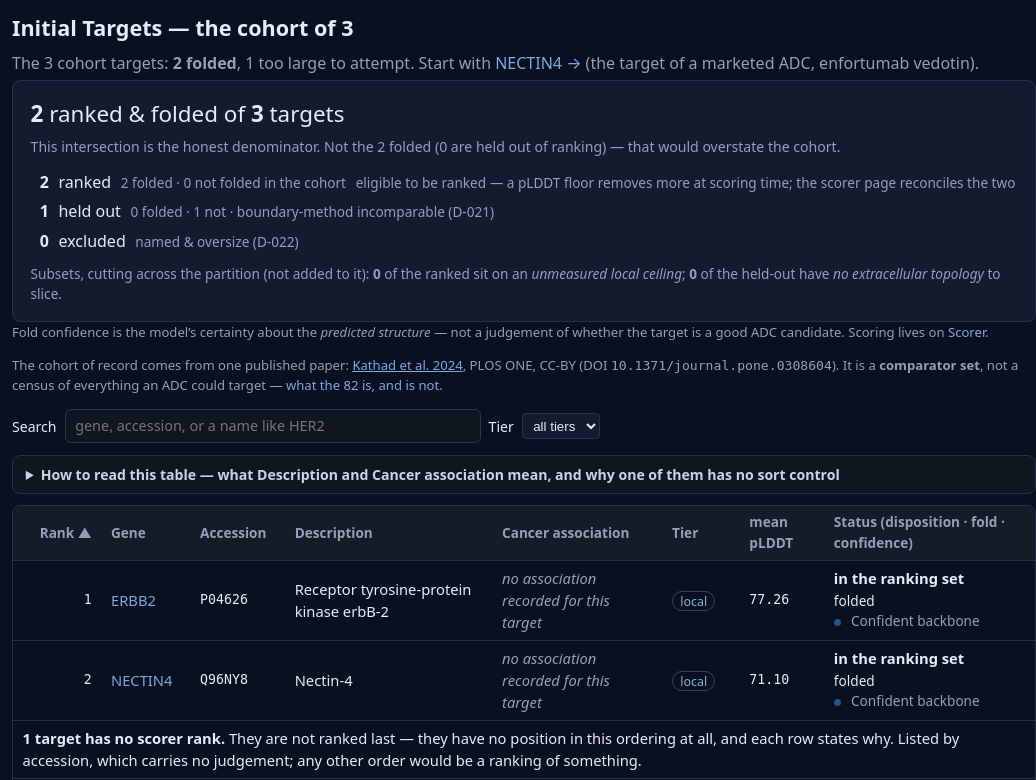
Test: D-152 — the new search boxes cannot rewrite a statistic › /targets — the count states the filter and the denominator refuses to move
# ⚠ the shared matcher reaches aliases, so the name on the drug label finds the row
Type "CA-125" into the search field labelled "Search" at {"x": 273, "y": 426}, box [65, 409, 481, 444]
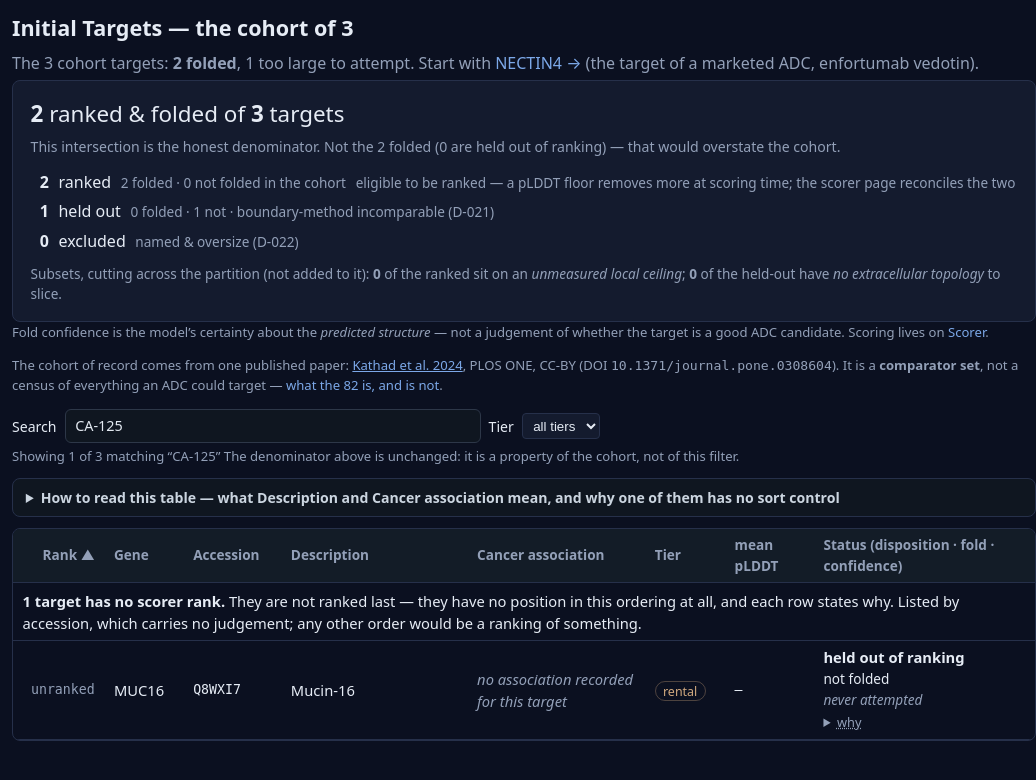
Check: the text "MUC16" is shown, box [114, 680, 164, 700]
Check: the text with class "filter-count" shows "The denominator above is unchanged", box [224, 447, 739, 465]
